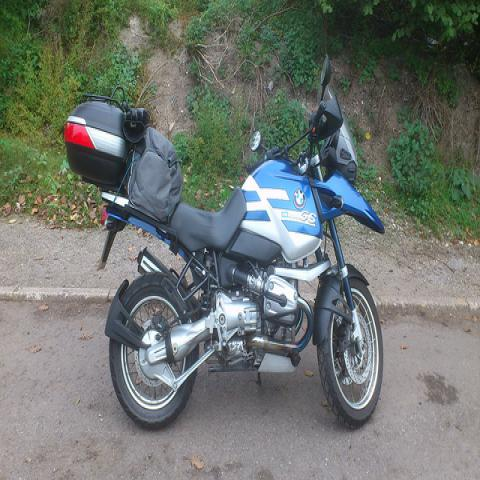motorcycle: (62, 56, 389, 432)
